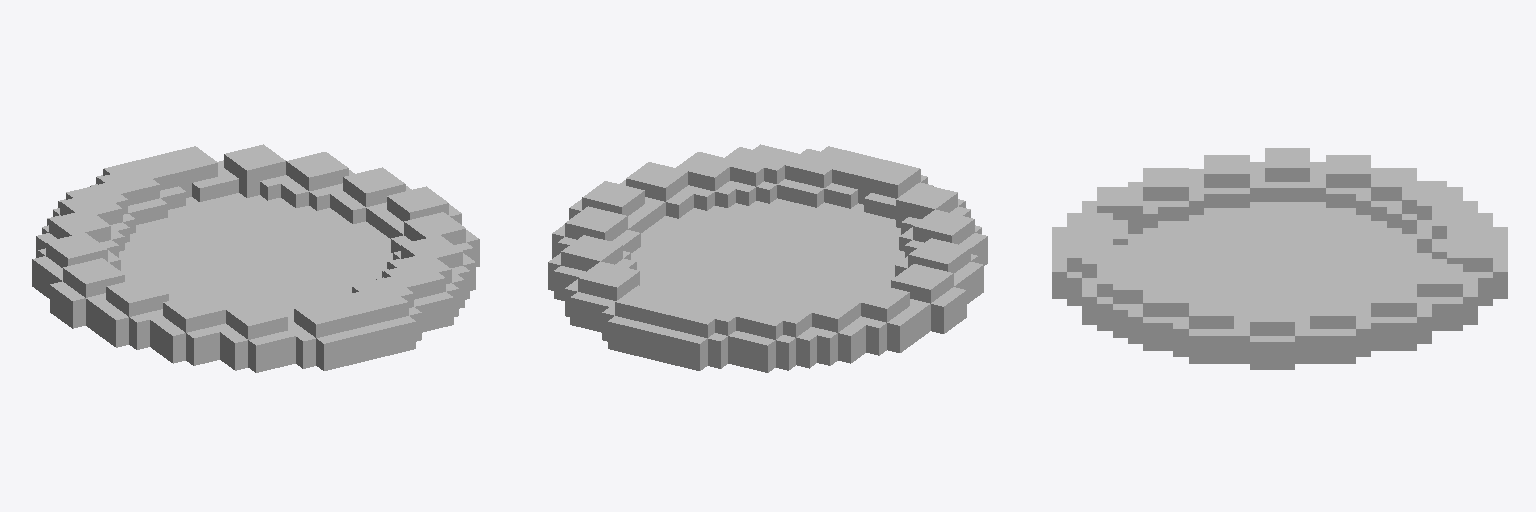
Rendered from Hole.obj.
3 renders of one model, left to right at view 1: azimuth 30°, elevation 25°; view 2: azimuth 150°, elevation 25°; view 3: azimuth 270°, elevation 25°, orthographic.
Bounding box in the file's own units: 29 × 3 × 30.